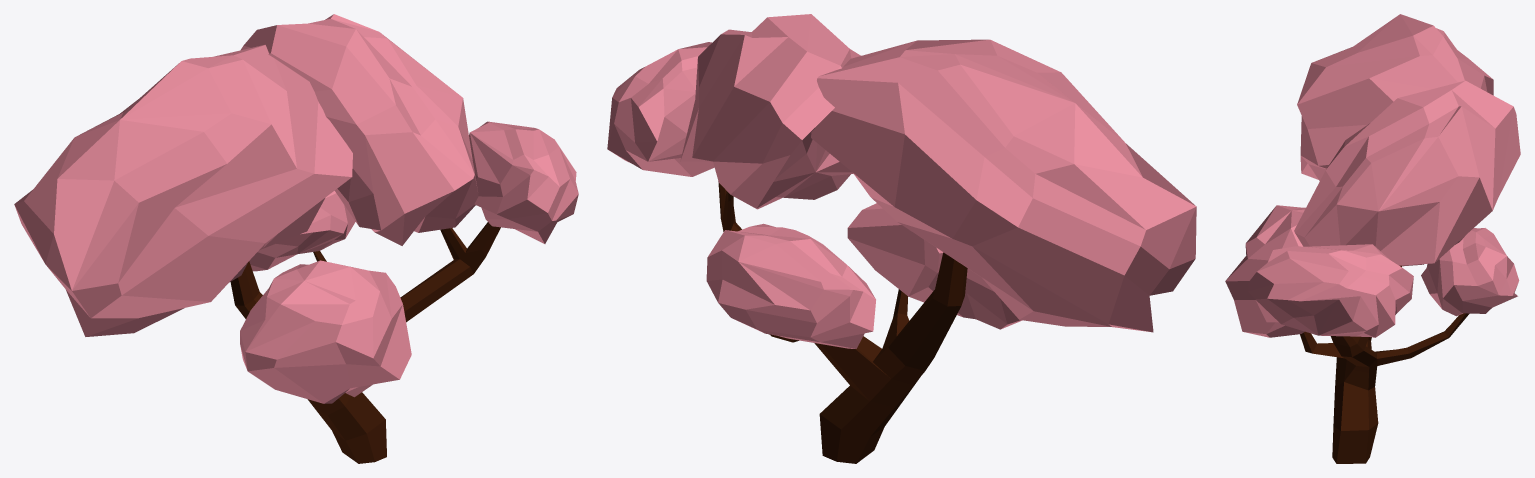
The model's file is tree.glb.
3 renders of one model, left to right at view 1: azimuth 30°, elevation 25°; view 2: azimuth 150°, elevation 25°; view 3: azimuth 270°, elevation 25°, orthographic. The views are drawn at different scales.
Parts seen in each view (by area): view 1: Leave, Leave2, Leave5, Leave3, Base, Leave4; view 2: Leave, Leave2, Leave4, Base, Leave3, Leave5; view 3: Leave2, Leave, Leave3, Base, Leave4, Leave5.
Boxes of the visible parts, x1,y1,x2,y2 form: Leave: (14, 44, 352, 336); Leave2: (241, 14, 478, 245); Leave5: (240, 260, 411, 403); Leave3: (469, 121, 578, 243); Base: (230, 222, 500, 463); Leave4: (249, 191, 355, 271); Leave: (811, 39, 1196, 332); Leave2: (680, 14, 860, 209); Leave4: (706, 223, 875, 348); Base: (718, 181, 967, 463); Leave3: (607, 42, 714, 176); Leave5: (847, 203, 1022, 329); Leave2: (1294, 80, 1520, 266); Leave: (1297, 14, 1493, 180); Leave3: (1248, 244, 1413, 337); Base: (1300, 265, 1469, 463); Leave4: (1421, 228, 1519, 316); Leave5: (1225, 205, 1305, 337).
Bounding box in the file's own units: 35.14 × 26.52 × 19.27.
